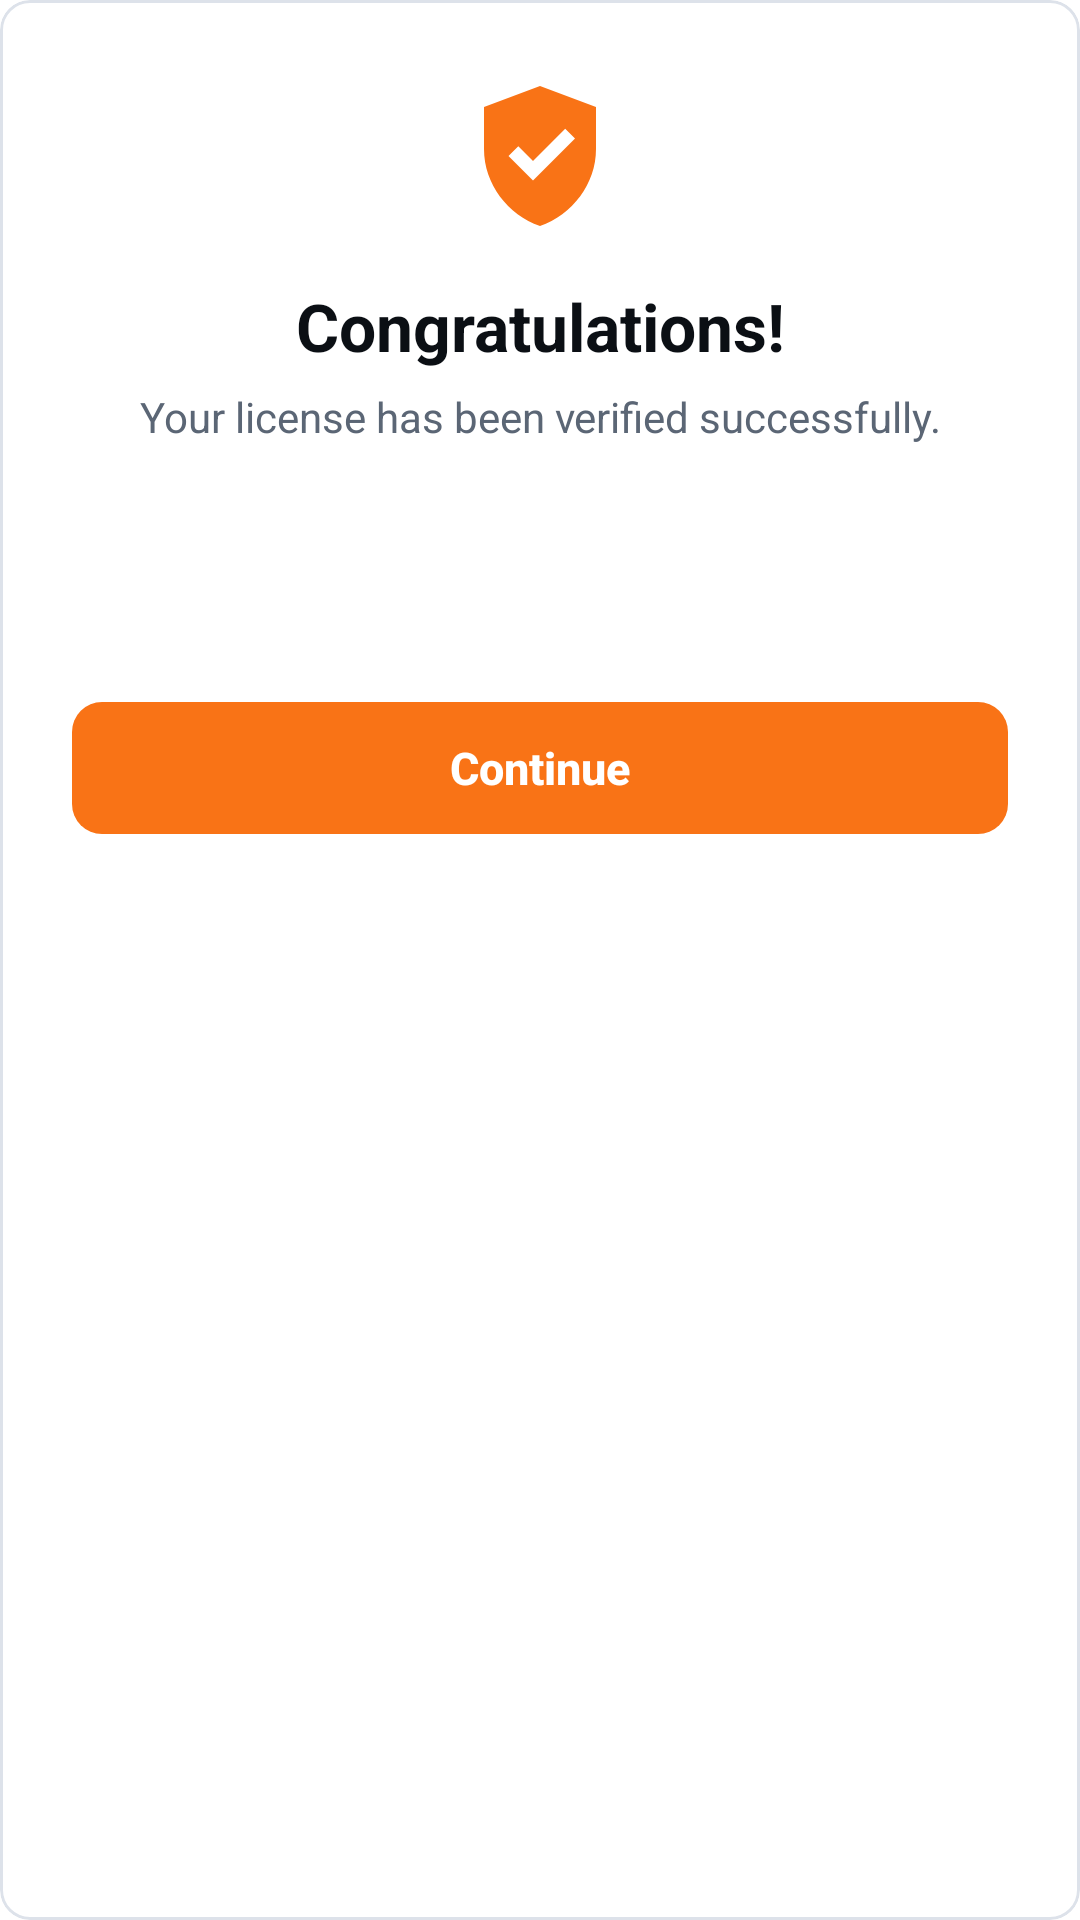

Where icons sit on this 1080 × 1920 app screen, as (x1, y1, x2, y2):
shield check: (484, 86, 596, 226)
